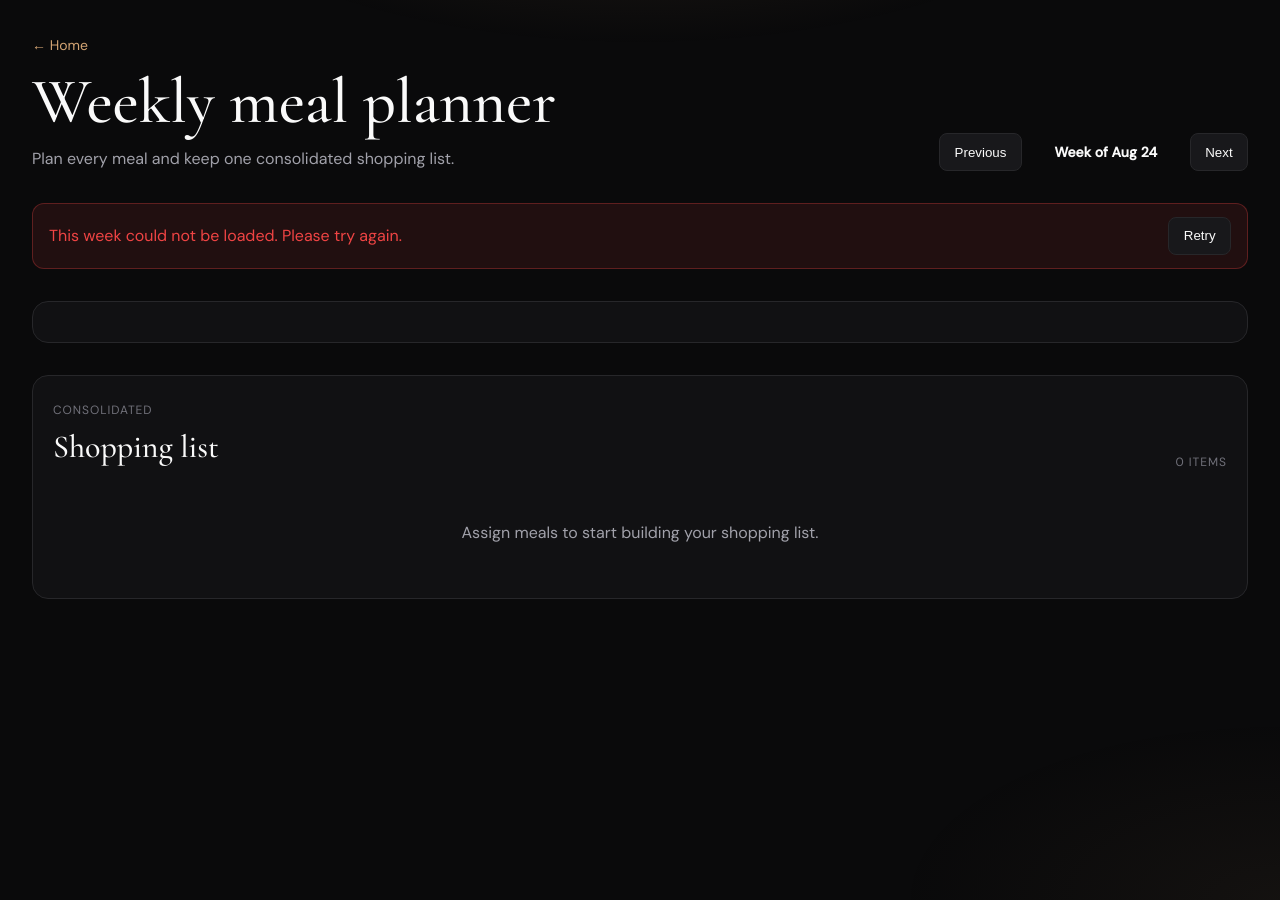
Scenario: MealPlansPage should › show a load error and retry
Expected: the message shows "This week could not be loaded", top-left (49, 225), bottom-right (402, 246)
Click the button "Retry" at (1200, 236), box top-left (1168, 217), bottom-right (1231, 255)
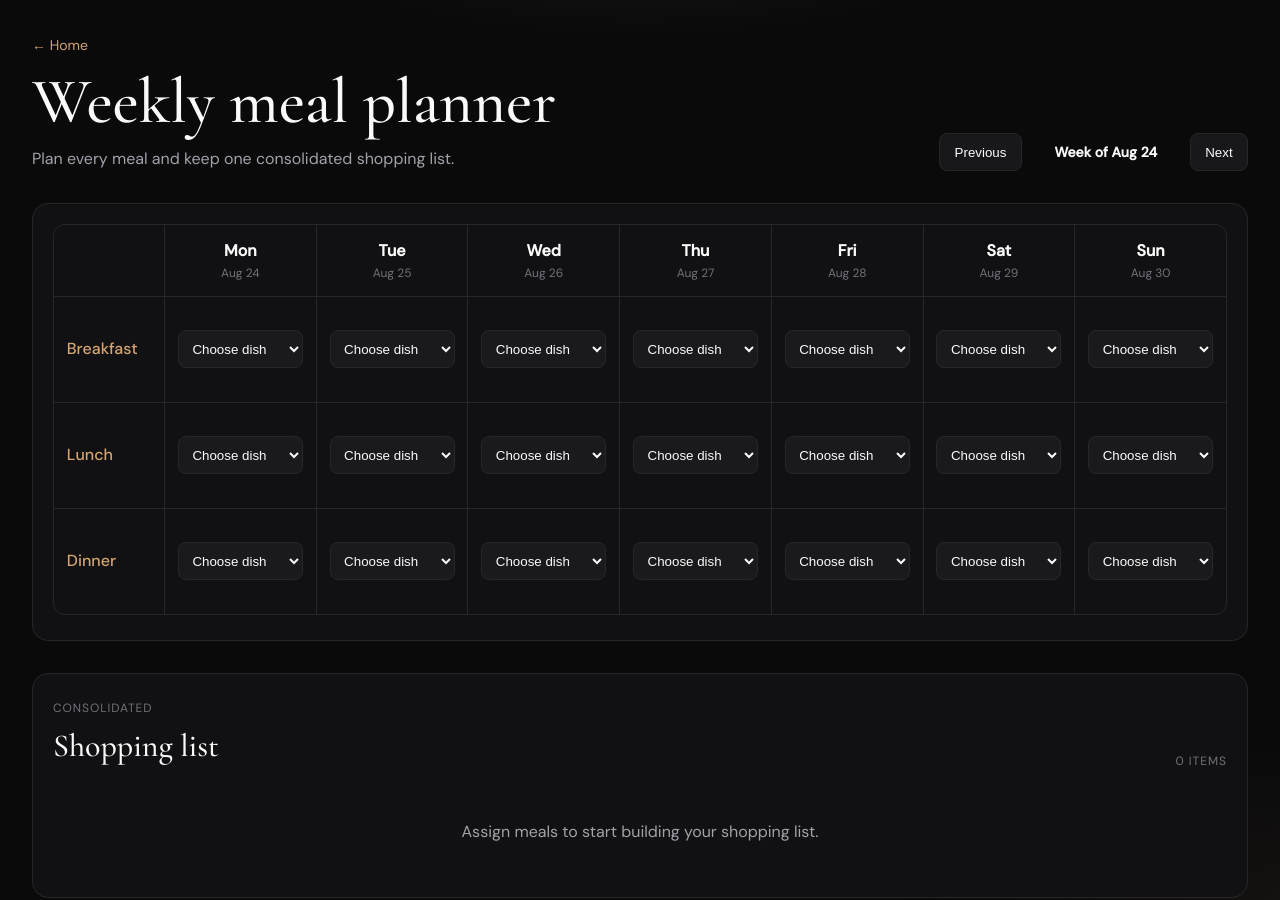
Now the table is shown, box top-left (53, 224), bottom-right (1227, 615)
